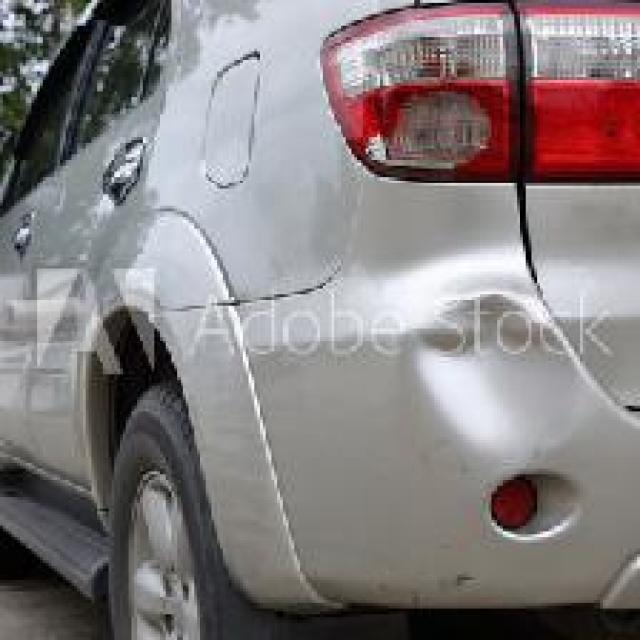damaged: (417, 294, 592, 463), (377, 562, 483, 614)
